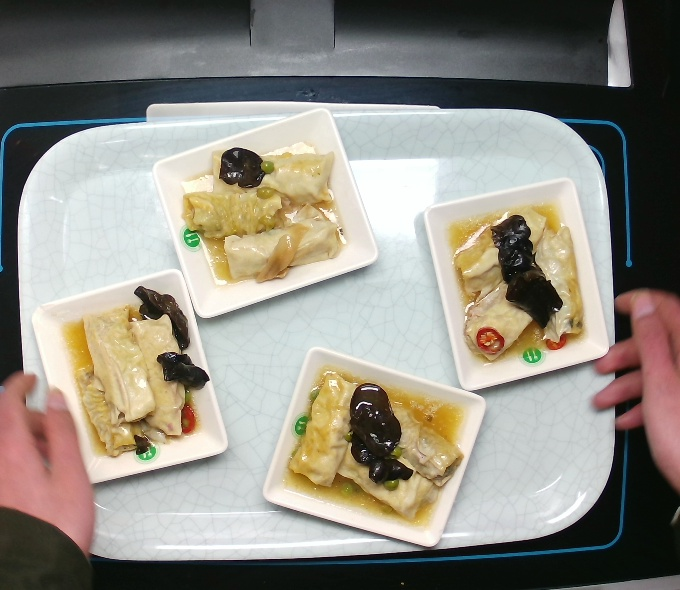wcq-QianZhangBao: (270, 359, 473, 533), (48, 280, 216, 470), (171, 131, 353, 297), (441, 194, 591, 368)
